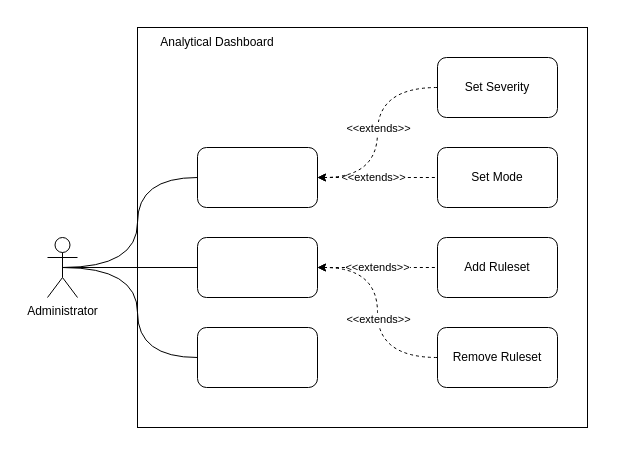
Image size: 644x474. Some labels were removed from this diagram. Here are the shapes that lost their labels. From the top down, the box of each, then its label:
(196, 146, 318, 208): Manage Settings
(196, 236, 318, 298): Configure Rulesets
(196, 326, 318, 388): Inspect Traffic
